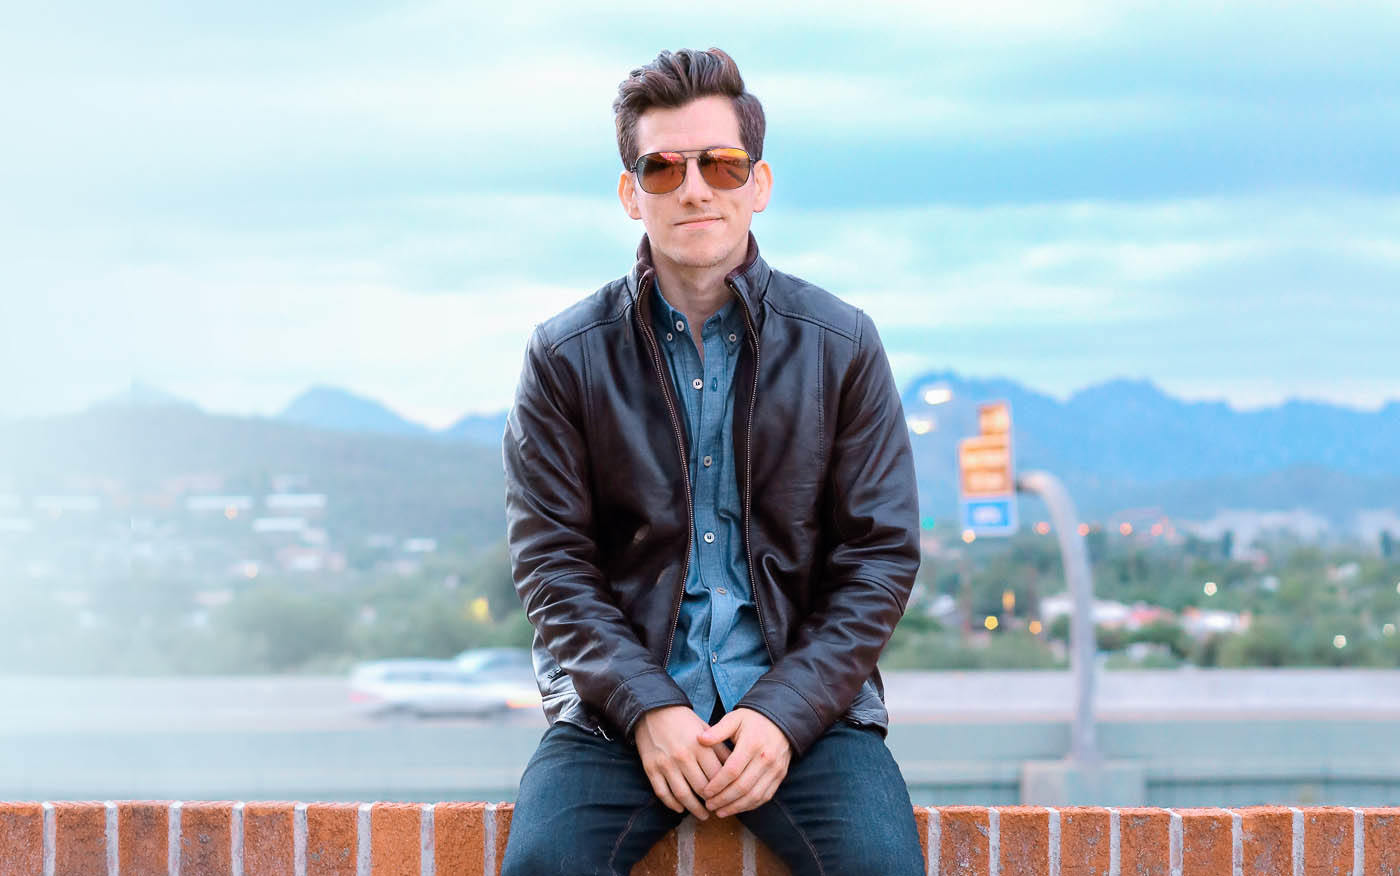Without Helmet: (601, 37, 788, 288)
